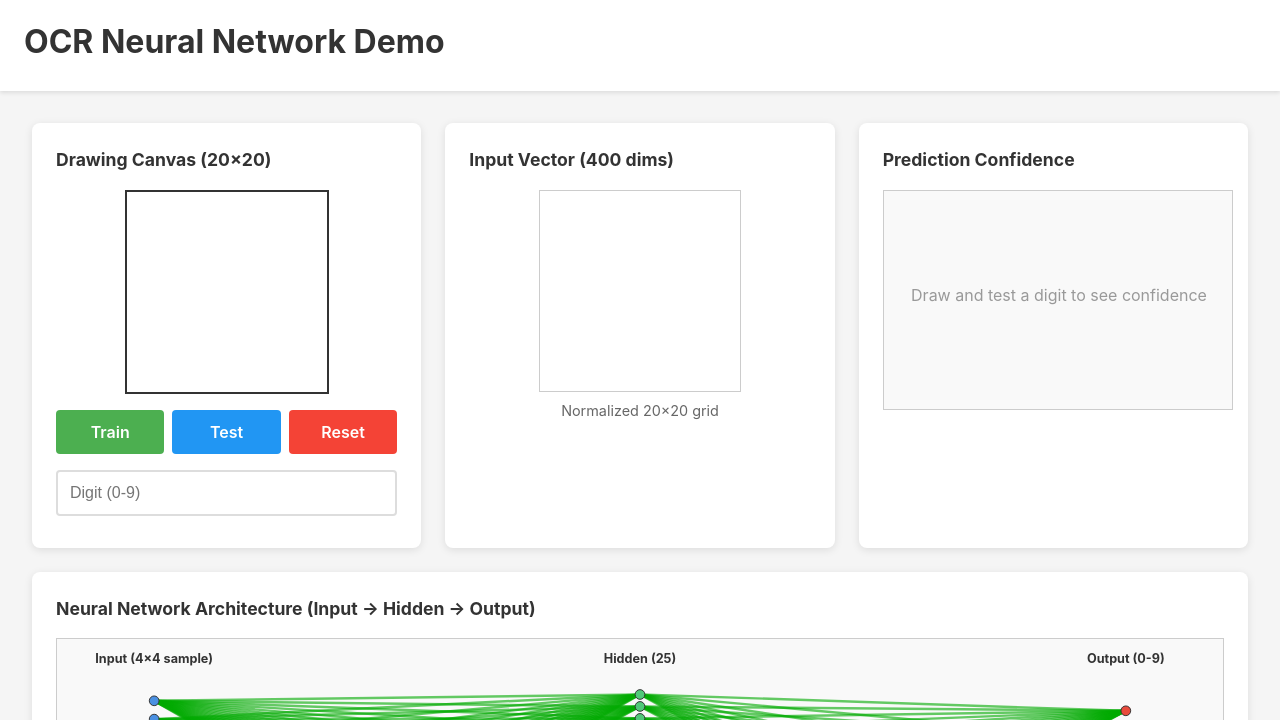
Scenario: App › handles test error gracefully
Press the mouse on the drawing below "Drawing Canvas (20×20)" at (227, 292), box [125,190,329,394]
Click the button "Test".
click(227, 432)  # box [172,410,281,454]
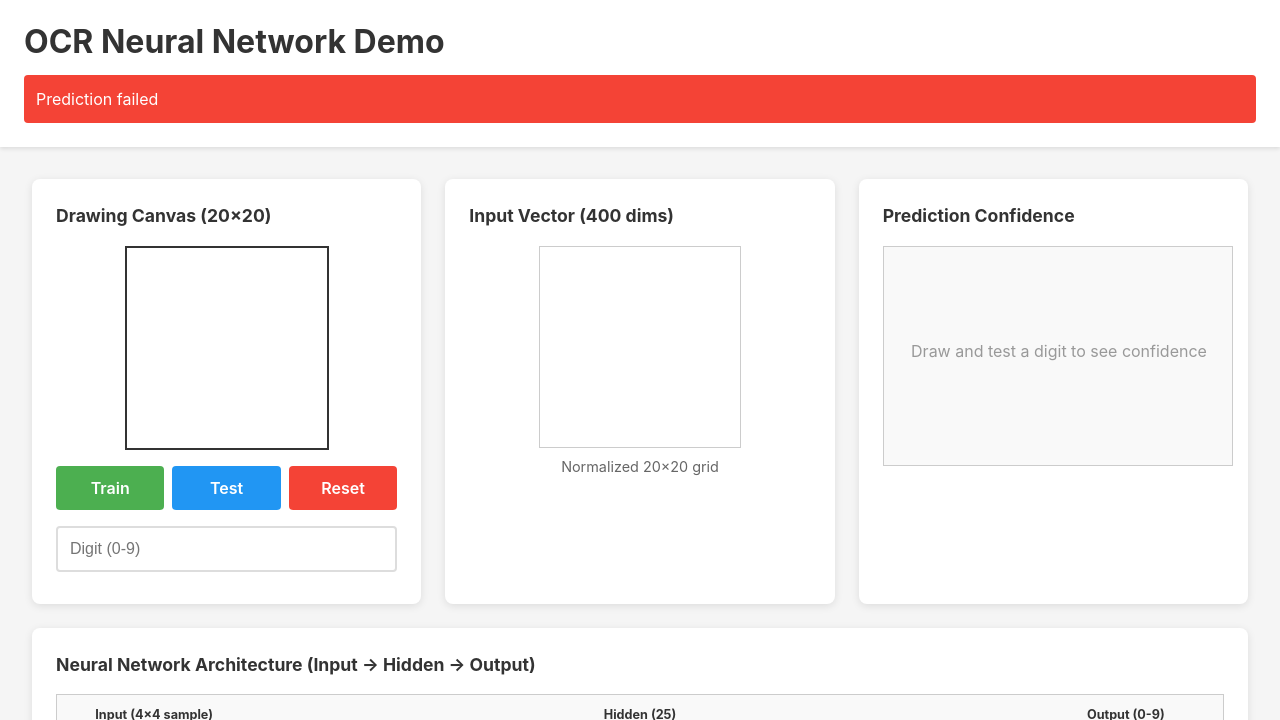
Check: the text "Prediction failed" is shown, box [24,75,1256,123]
